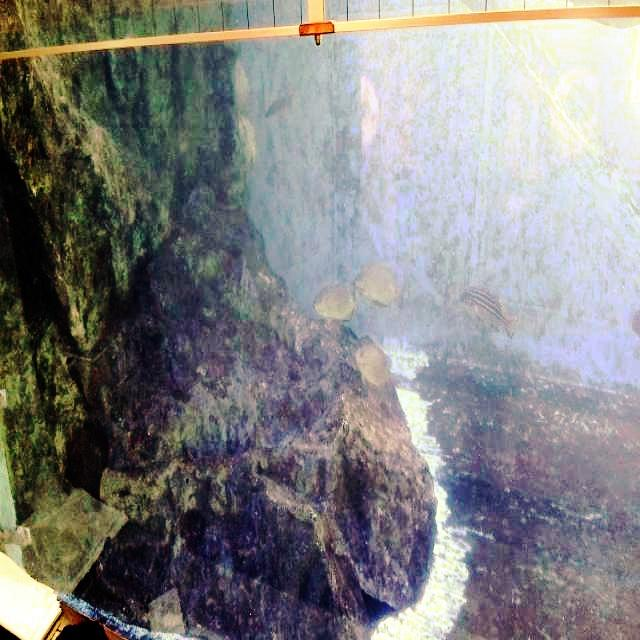Plectorhinchus lessonii: (454, 274, 528, 346)
gold snapper: (309, 270, 362, 330), (348, 338, 399, 396), (356, 256, 406, 314)
